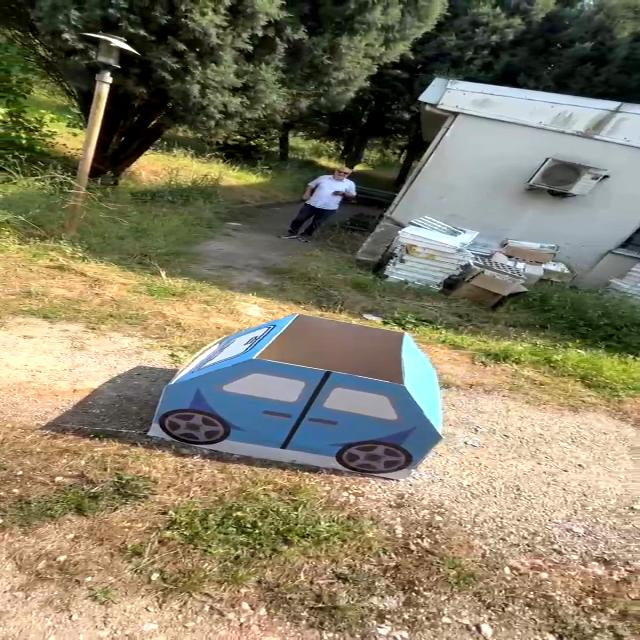blue_car: (120, 298, 454, 496)
